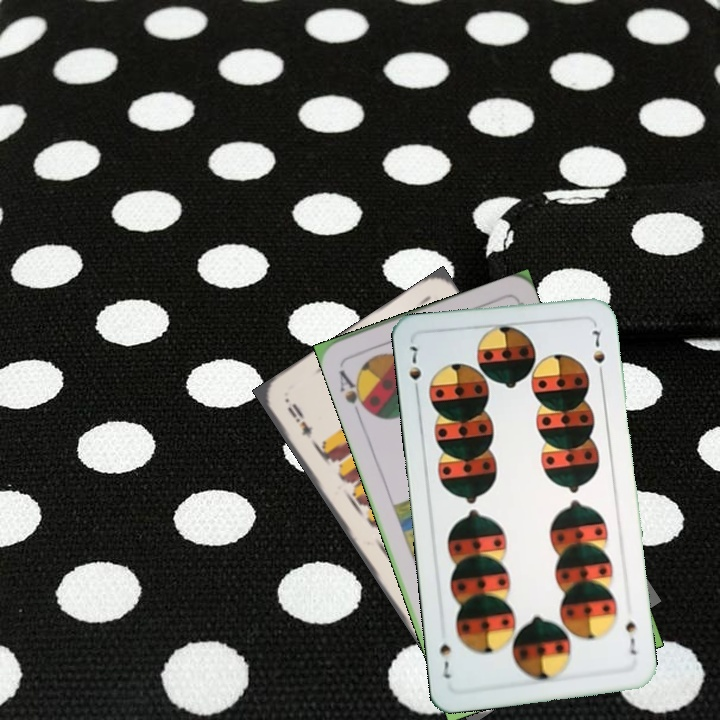E9: (283, 399, 316, 441)
S7: (405, 342, 424, 398), (621, 613, 639, 658)
SA: (335, 366, 373, 419)
